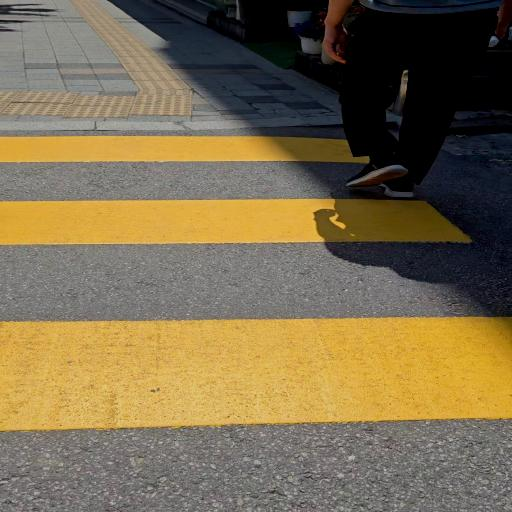yellow-crosswalk: (0, 126, 512, 512)
